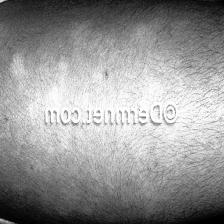Non-Cancerous Skin Condition: (76, 14, 144, 94), (0, 26, 41, 92), (1, 145, 46, 191)
